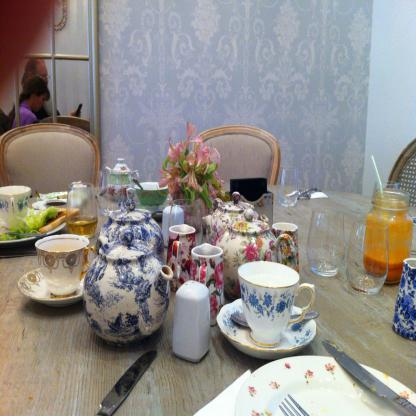vase: (171, 186, 213, 234)
